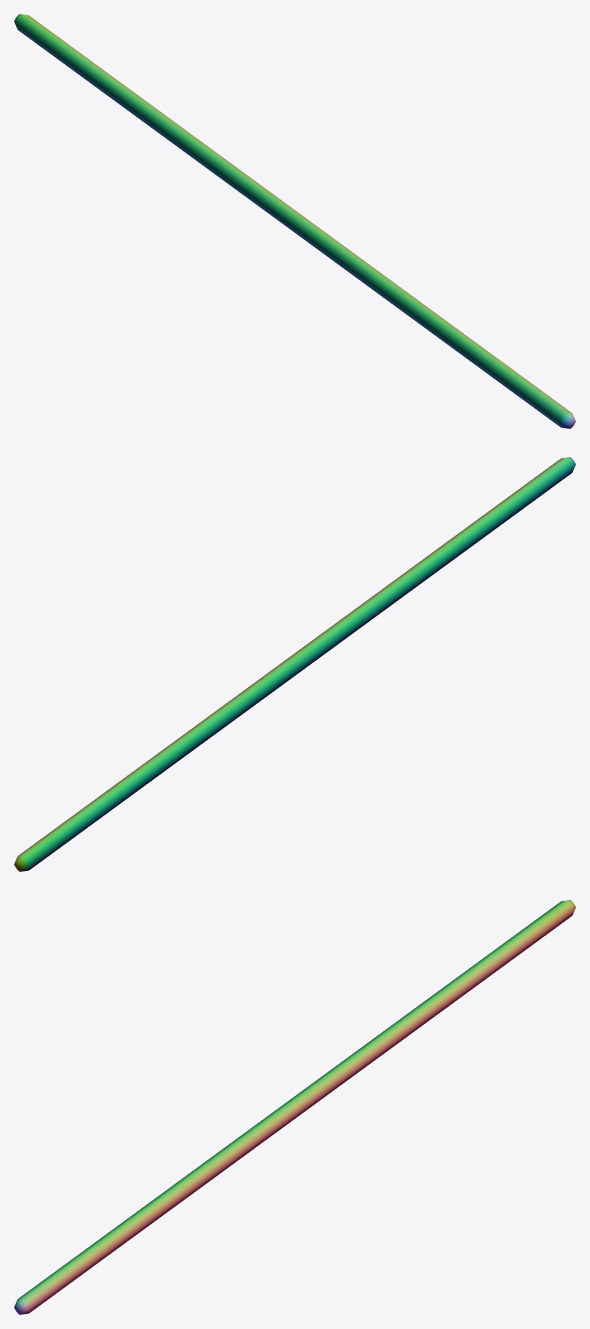
The model's file is zeometry-basic-shapes-line_v4.glb.
3 renders of one model, top to bottom at view 1: azimuth 30°, elevation 25°; view 2: azimuth 150°, elevation 25°; view 3: azimuth 330°, elevation 25°, orthographic.
Visible parts, largest first — view 1: Line_v4; view 2: Line_v4; view 3: Line_v4.
Part boxes in pixels (<box>): Line_v4: <box>14,14,575,428</box>; Line_v4: <box>14,457,575,871</box>; Line_v4: <box>14,900,575,1314</box>.
Bounding box in the file's own units: 0.00783 × 0.00783 × 0.5.
